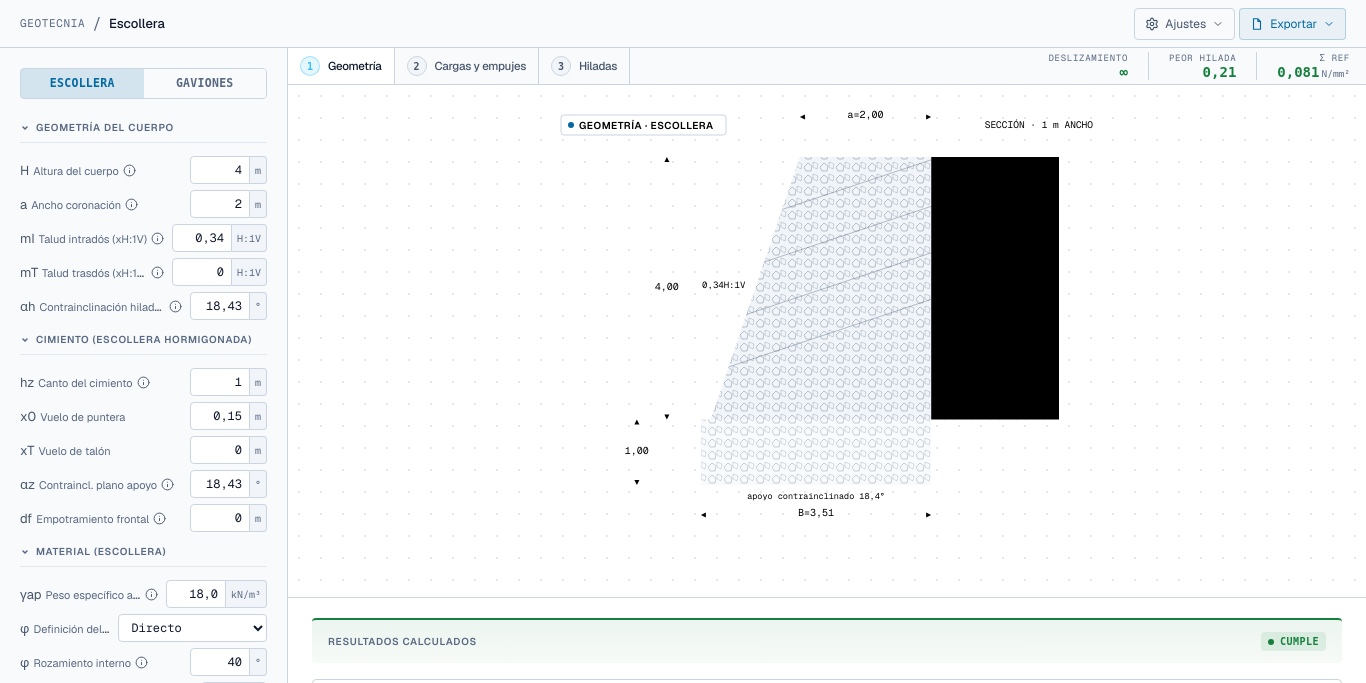
Test: RockfillWallModule — smoke de integración › 3 · el toggle de tipología a Gaviones cambia inputs y mantiene resultado válido
Expected: the field with id "input-mIntra" is shown, [172, 224, 232, 252]
Click the button "Gaviones".
click(205, 84)  # box [144, 69, 266, 98]
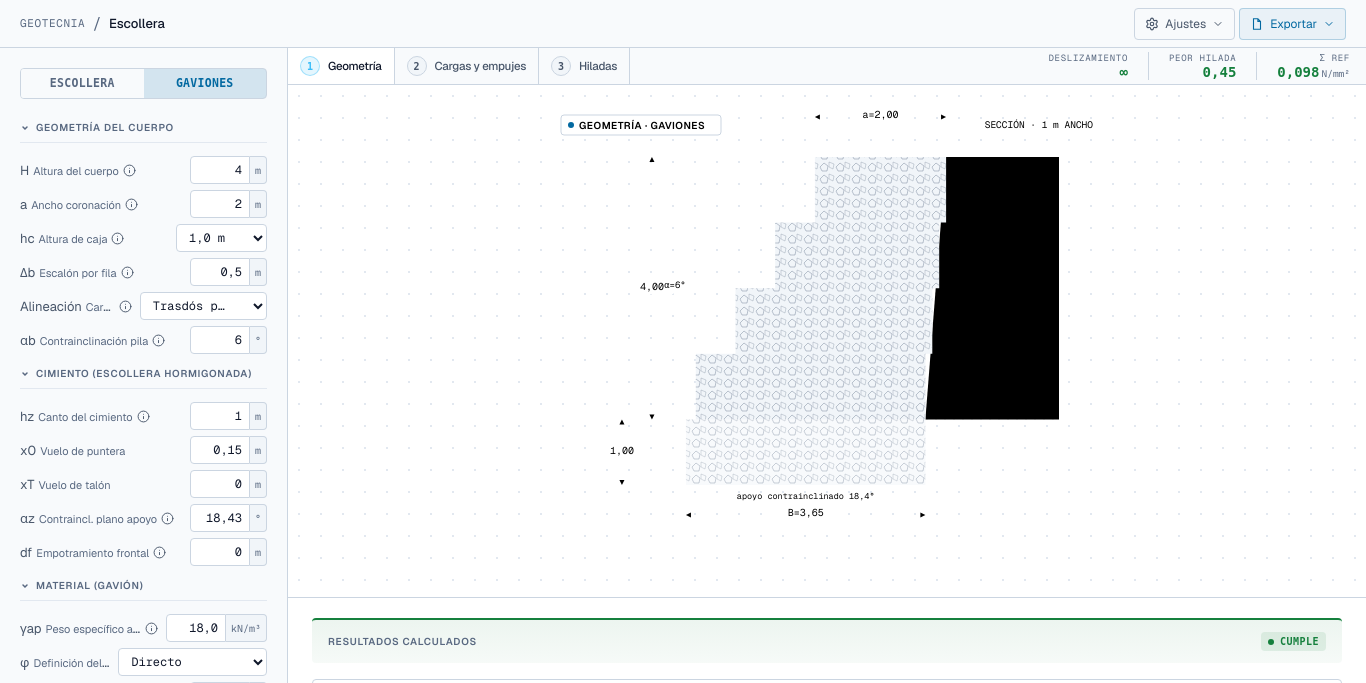
Expected: the text "Resultados calculados" is shown, [328, 634, 477, 649]
Expected: the label with id "input-mIntra" is gone
Expected: the dropdown with id "select-hCaja" is shown, [176, 224, 267, 252]
